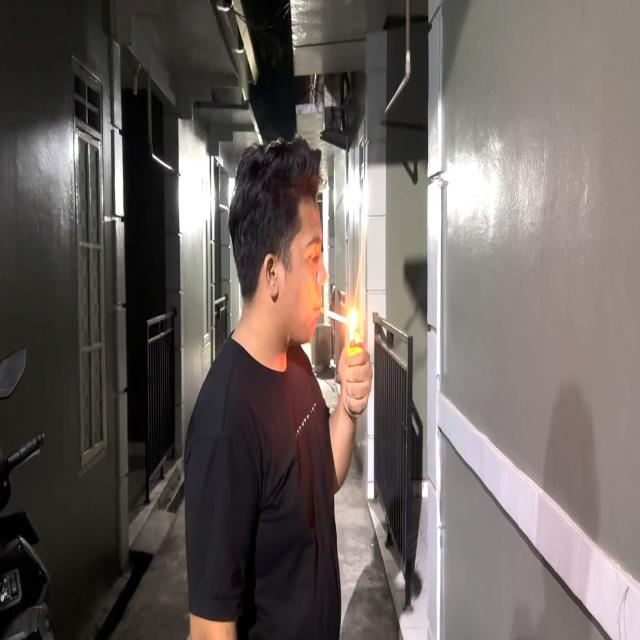cigarette: (316, 299, 369, 351)
smoking: (228, 130, 383, 505)
